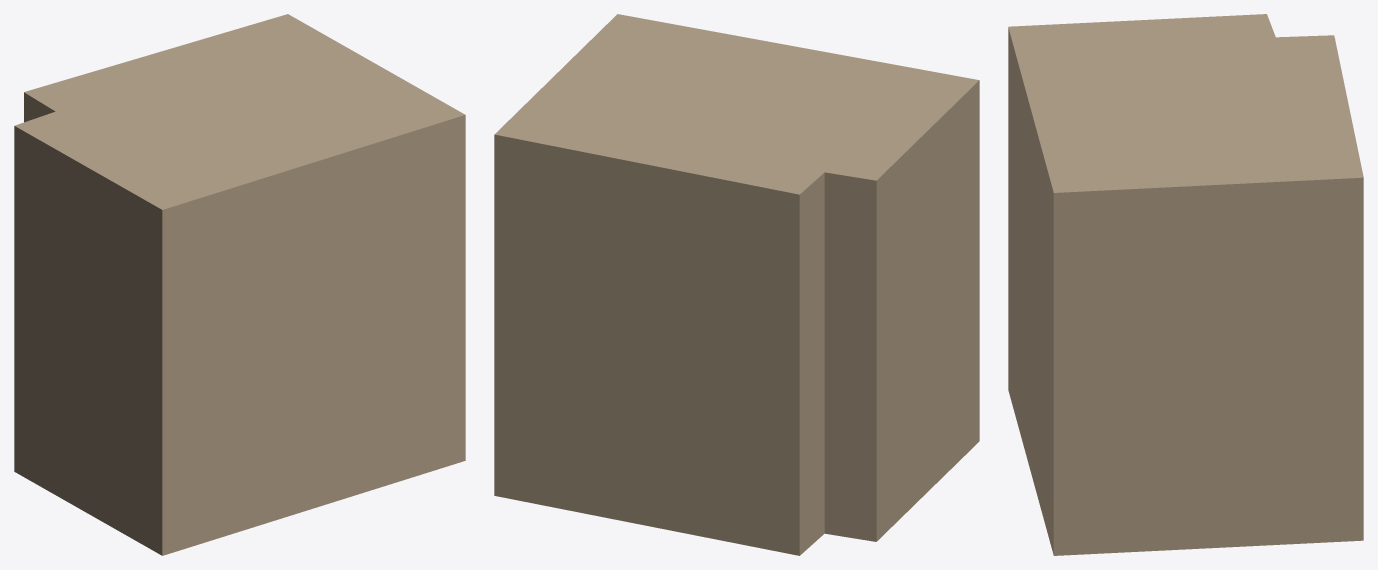
Rendered from bld_109034763.dae.
3 views of the same model, side by side, from view 1: azimuth 30°, elevation 25°; view 2: azimuth 150°, elevation 25°; view 3: azimuth 270°, elevation 25° (orthographic). The views are drawn at different scales.
Visible parts, largest first — view 1: bld_109034763; view 2: bld_109034763; view 3: bld_109034763.
Part boxes in pixels (x1,y1,x2,y2): bld_109034763: [14, 14, 465, 555]; bld_109034763: [494, 14, 979, 555]; bld_109034763: [1008, 14, 1363, 555].
Size of the model in its own units: 8.46 by 7.1 by 8.
